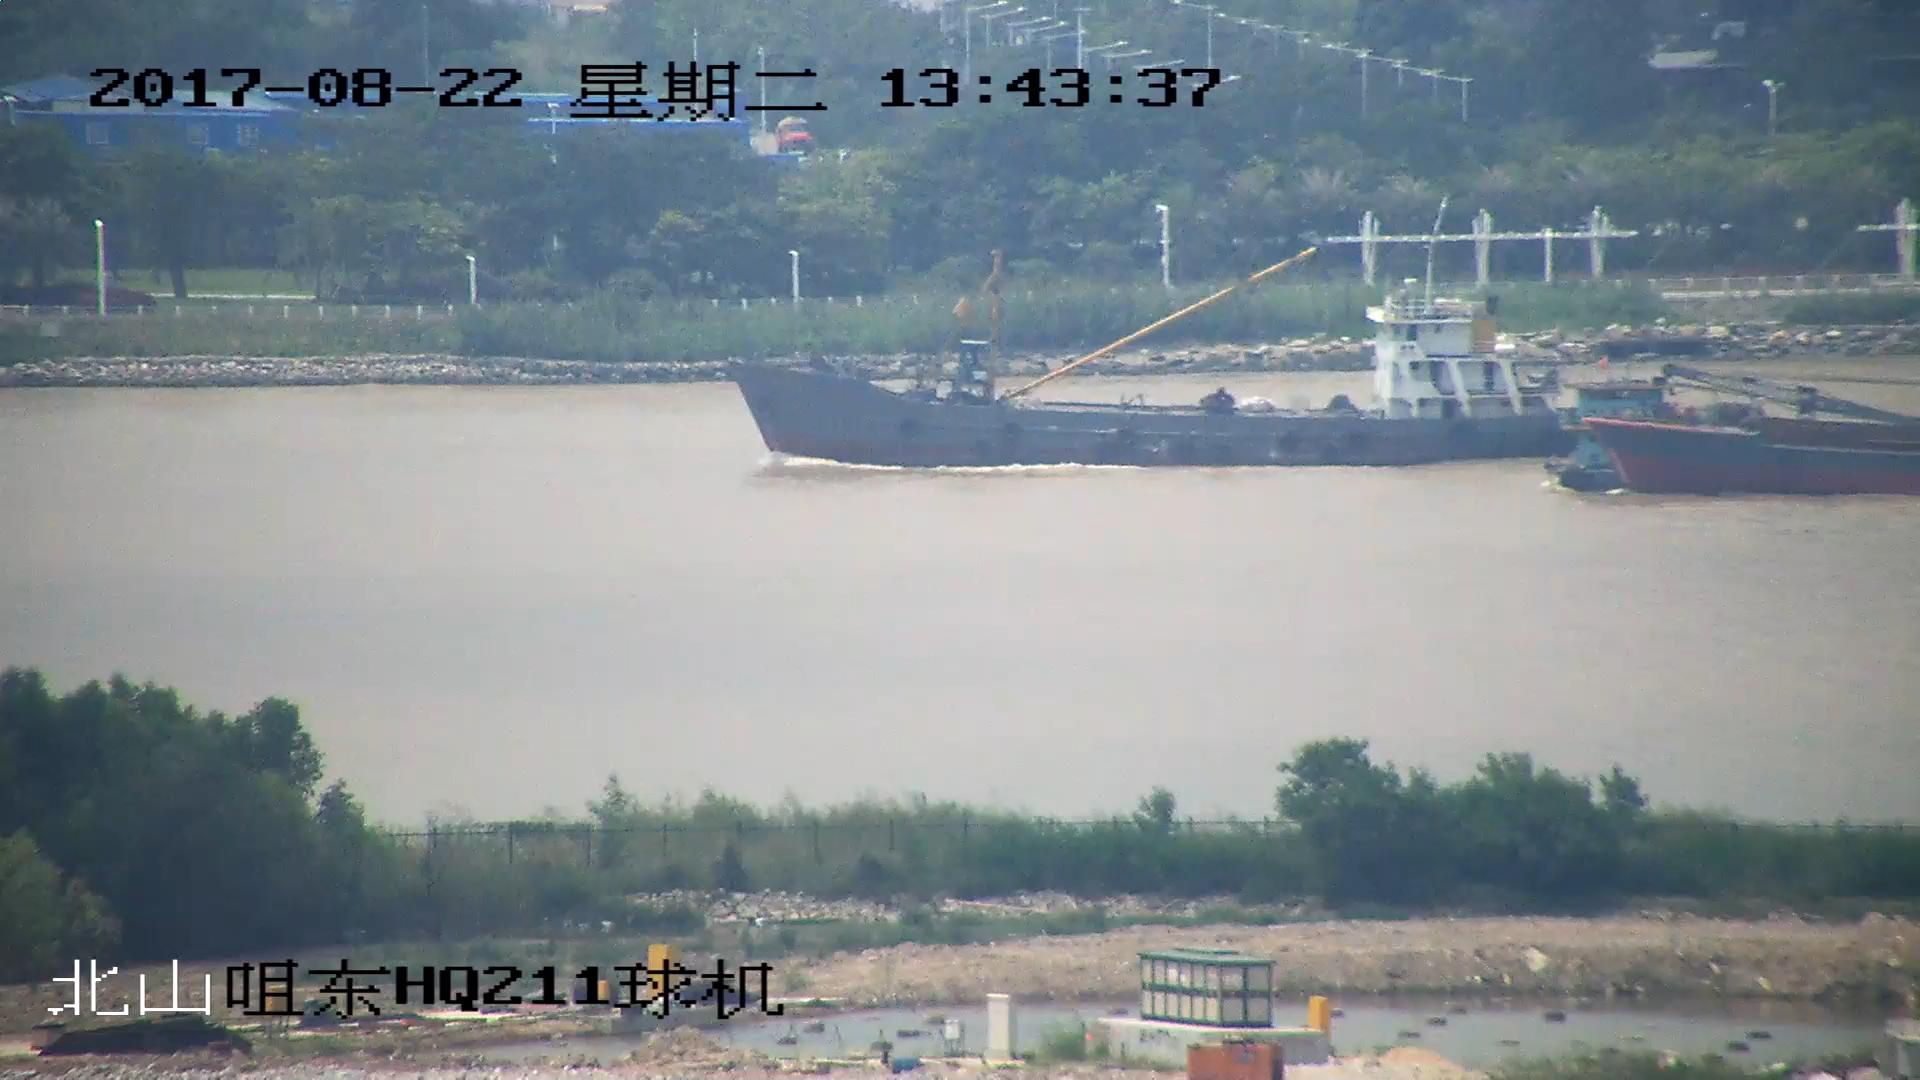fishing boat: (731, 233, 1587, 465), (1559, 371, 1920, 499)
